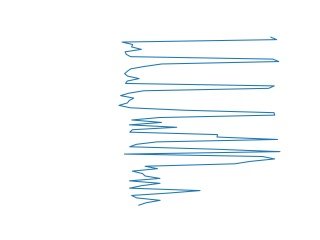crevasseRiverChannelBar: (125, 161, 267, 207)
majorRiverBedLagDeposit: (119, 120, 283, 163)
majorRiverChannelBar: (114, 34, 282, 118)
